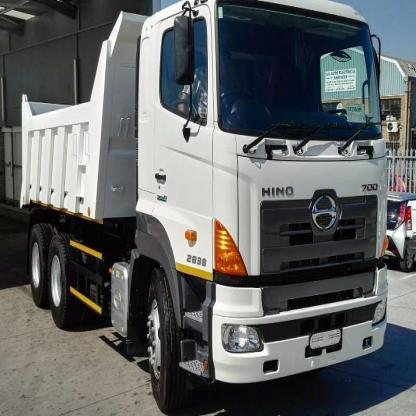dump_truck: (14, 0, 389, 404)
